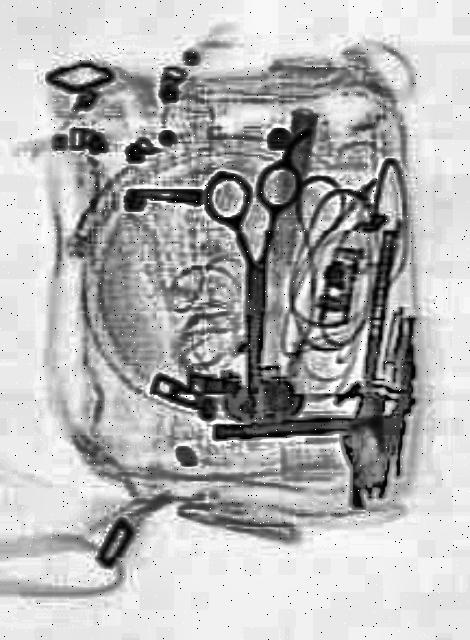Scissors: (202, 162, 298, 386)
